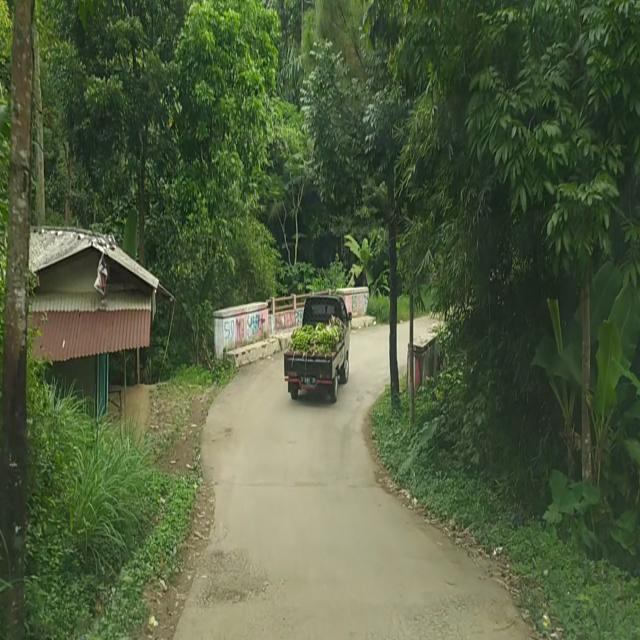Drain Hole: (198, 545, 272, 607), (398, 582, 480, 636)
